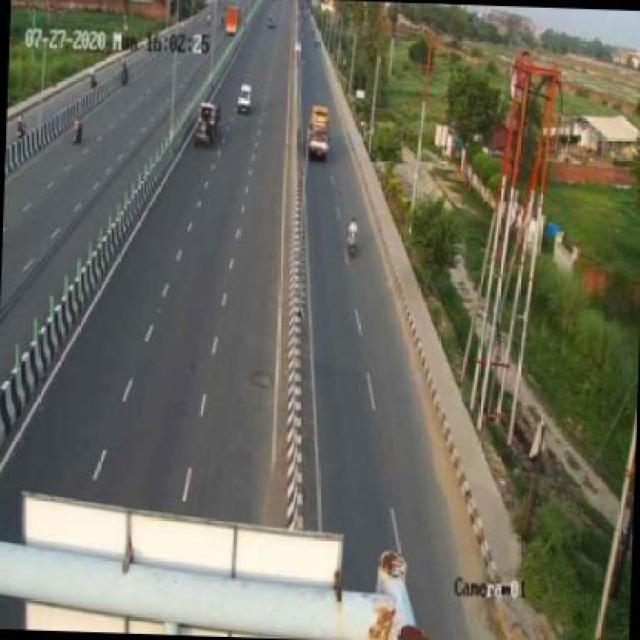car: (235, 77, 257, 114)
